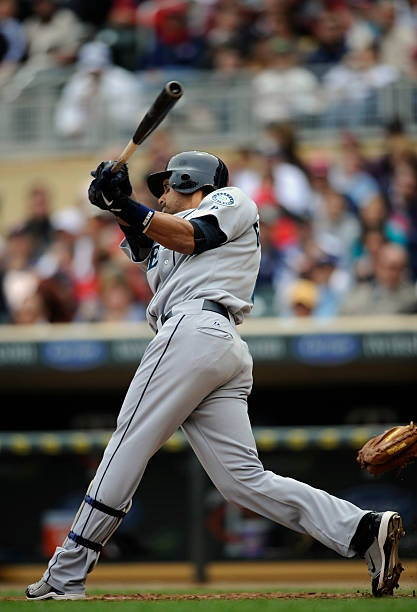bita: (111, 86, 181, 171)
